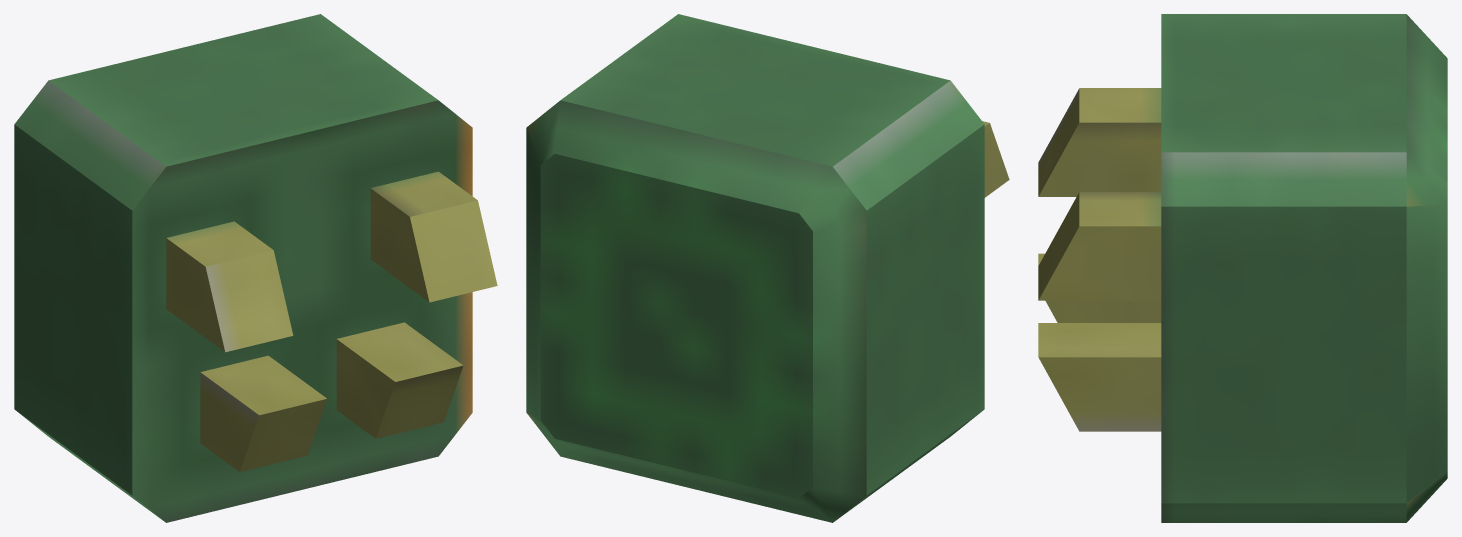
File: ChipKey.fbx
3 views of the same model, side by side, from view 1: azimuth 30°, elevation 25°; view 2: azimuth 150°, elevation 25°; view 3: azimuth 270°, elevation 25° (orthographic). The views are drawn at different scales.
Parts seen in each view (by area): view 1: Chip; view 2: Chip; view 3: Chip.
Boxes of the visible parts, x1,y1,x2,y2 form: Chip: [14, 14, 497, 522]; Chip: [526, 14, 1009, 522]; Chip: [1038, 14, 1447, 522].
Bounding box in the file's own units: 100 × 100 × 100.
